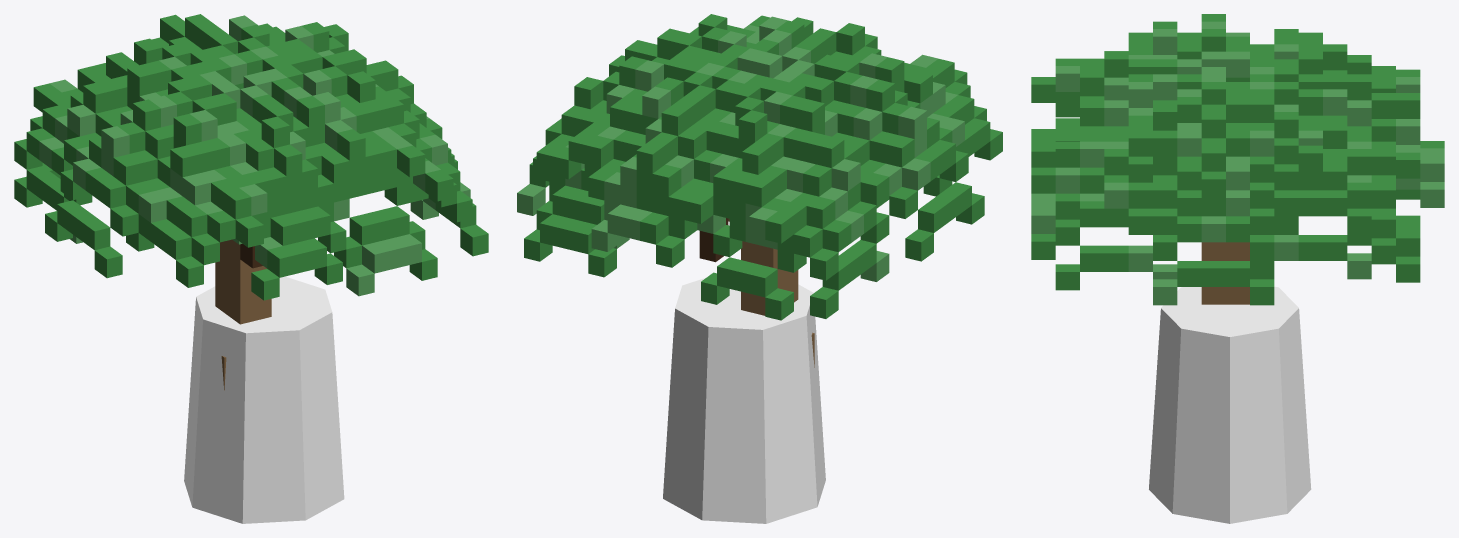
The model's file is palmeira_adulta.glb.
3 renders of one model, left to right at view 1: azimuth 30°, elevation 25°; view 2: azimuth 150°, elevation 25°; view 3: azimuth 270°, elevation 25°, orthographic. The views are drawn at different scales.
Visible parts, largest first — view 1: Cylinder_002_25, Colisao_001; view 2: Cylinder_002_25, Colisao_001; view 3: Cylinder_002_25, Colisao_001.
Boxes of the visible parts, bbox=[...] form: Cylinder_002_25: bbox=[14, 14, 488, 390]; Colisao_001: bbox=[184, 276, 344, 523]; Cylinder_002_25: bbox=[517, 14, 1002, 367]; Colisao_001: bbox=[663, 278, 825, 523]; Cylinder_002_25: bbox=[1031, 14, 1444, 305]; Colisao_001: bbox=[1149, 286, 1311, 523].
Size of the model in its own units: 3.57 by 3.95 by 3.59.
